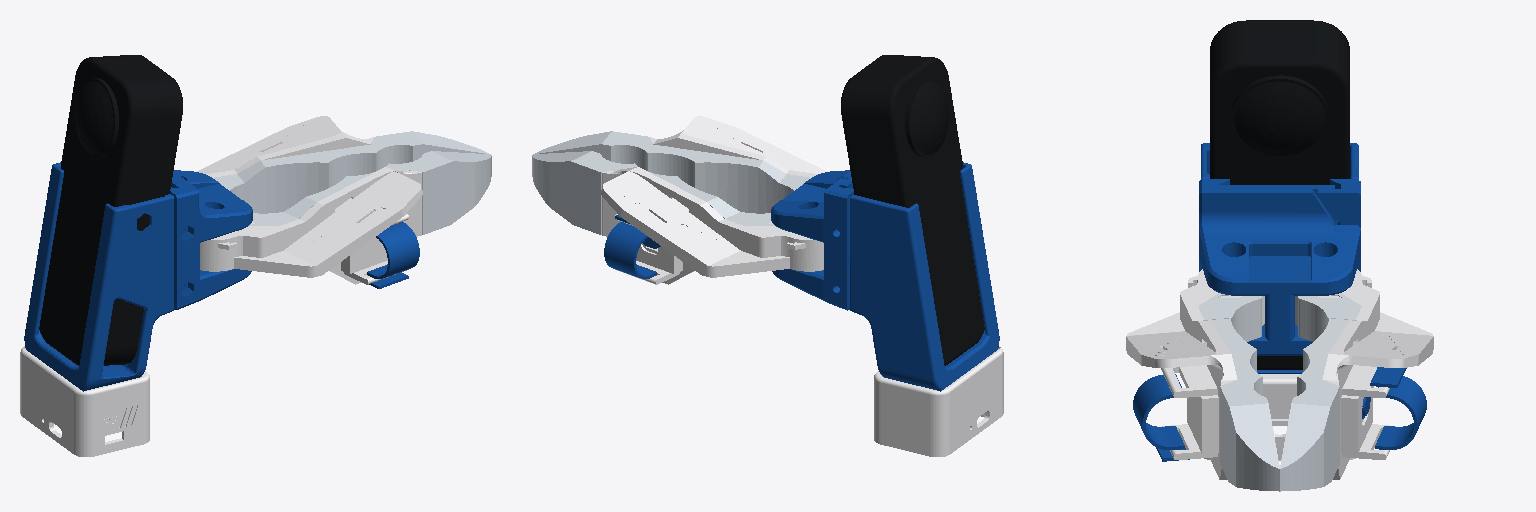
robot.urdf — pg_chopstick_data_left:
<?xml version="1.0"?>
<!-- PG Chopstick, generated by chopstick/cad/urdf.py. Units: m, rad. -->
<robot name="pg_chopstick_data_left">
  <material name="pg_blue"><color rgba="0.12 0.37 0.68 1"/></material>
  <material name="pg_white"><color rgba="0.96 0.96 0.97 1"/></material>
  <material name="tpu"><color rgba="0.87 0.9 0.93 1"/></material>
  <material name="camera"><color rgba="0.11 0.12 0.13 1"/></material>
  <link name="chopstick_base">
    <visual name="chopstick_base_dc"><origin xyz="0 0 0" rpy="0 0 0"/><geometry><mesh filename="meshes/chopstick_base_dc.stl" scale="0.001 0.001 0.001"/></geometry><material name="pg_blue"/></visual>
    <collision name="chopstick_base_dc"><origin xyz="0 0 0" rpy="0 0 0"/><geometry><mesh filename="meshes/chopstick_base_dc.stl" scale="0.001 0.001 0.001"/></geometry></collision>
    <visual name="chopstick_clip_dc"><origin xyz="0 0 0" rpy="0 0 0"/><geometry><mesh filename="meshes/chopstick_clip_dc.stl" scale="0.001 0.001 0.001"/></geometry><material name="pg_blue"/></visual>
    <collision name="chopstick_clip_dc"><origin xyz="0 0 0" rpy="0 0 0"/><geometry><mesh filename="meshes/chopstick_clip_dc.stl" scale="0.001 0.001 0.001"/></geometry></collision>
    <visual name="x5_lite_frame"><origin xyz="0 0 0" rpy="0 0 0"/><geometry><mesh filename="meshes/x5_lite_frame.stl" scale="0.001 0.001 0.001"/></geometry><material name="pg_blue"/></visual>
    <collision name="x5_lite_frame"><origin xyz="0 0 0" rpy="0 0 0"/><geometry><mesh filename="meshes/x5_lite_frame.stl" scale="0.001 0.001 0.001"/></geometry></collision>
    <visual name="pg_pod"><origin xyz="0 0 0" rpy="0 0 0"/><geometry><mesh filename="meshes/pg_pod.stl" scale="0.001 0.001 0.001"/></geometry><material name="pg_white"/></visual>
    <collision name="pg_pod"><origin xyz="0 0 0" rpy="0 0 0"/><geometry><mesh filename="meshes/pg_pod.stl" scale="0.001 0.001 0.001"/></geometry></collision>
    <visual name="pg_pod_lid"><origin xyz="0 0 0" rpy="0 0 0"/><geometry><mesh filename="meshes/pg_pod_lid.stl" scale="0.001 0.001 0.001"/></geometry><material name="pg_white"/></visual>
    <collision name="pg_pod_lid"><origin xyz="0 0 0" rpy="0 0 0"/><geometry><mesh filename="meshes/pg_pod_lid.stl" scale="0.001 0.001 0.001"/></geometry></collision>
    <visual name="insta360_x5_envelope"><origin xyz="0 0 0" rpy="0 0 0"/><geometry><mesh filename="meshes/insta360_x5_envelope.stl" scale="0.001 0.001 0.001"/></geometry><material name="camera"/></visual>
    <collision name="insta360_x5_envelope"><origin xyz="0 0 0" rpy="0 0 0"/><geometry><mesh filename="meshes/insta360_x5_envelope.stl" scale="0.001 0.001 0.001"/></geometry></collision>
    <inertial><origin xyz="0.0303763 0.000128389 0.00893458" rpy="0 0 0"/><mass value="0.27072"/><inertia ixx="0.0004251" ixy="5.685e-07" ixz="-5.066e-05" iyy="0.0004304" iyz="1.407e-06" izz="0.0001112"/></inertial>
  </link>
  <link name="chopstick_jaw_left">
    <visual name="tip_tpu_left"><origin xyz="0 0 0" rpy="0 0 0"/><geometry><mesh filename="meshes/tip_tpu_left_jawframe.stl" scale="0.001 0.001 0.001"/></geometry><material name="tpu"/></visual>
    <collision name="tip_tpu_left"><origin xyz="0 0 0" rpy="0 0 0"/><geometry><mesh filename="meshes/tip_tpu_left_jawframe.stl" scale="0.001 0.001 0.001"/></geometry></collision>
    <visual name="sleeve_strap_left"><origin xyz="0 0 0" rpy="0 0 0"/><geometry><mesh filename="meshes/sleeve_strap_left_jawframe.stl" scale="0.001 0.001 0.001"/></geometry><material name="pg_blue"/></visual>
    <collision name="sleeve_strap_left"><origin xyz="0 0 0" rpy="0 0 0"/><geometry><mesh filename="meshes/sleeve_strap_left_jawframe.stl" scale="0.001 0.001 0.001"/></geometry></collision>
    <visual name="jaw_left_dc_button"><origin xyz="0 0 0" rpy="0 0 0"/><geometry><mesh filename="meshes/jaw_left_dc_button_jawframe.stl" scale="0.001 0.001 0.001"/></geometry><material name="pg_white"/></visual>
    <collision name="jaw_left_dc_button"><origin xyz="0 0 0" rpy="0 0 0"/><geometry><mesh filename="meshes/jaw_left_dc_button_jawframe.stl" scale="0.001 0.001 0.001"/></geometry></collision>
    <visual name="sleeve_button_cover_left"><origin xyz="0 0 0" rpy="0 0 0"/><geometry><mesh filename="meshes/sleeve_button_cover_left_jawframe.stl" scale="0.001 0.001 0.001"/></geometry><material name="pg_blue"/></visual>
    <collision name="sleeve_button_cover_left"><origin xyz="0 0 0" rpy="0 0 0"/><geometry><mesh filename="meshes/sleeve_button_cover_left_jawframe.stl" scale="0.001 0.001 0.001"/></geometry></collision>
    <inertial><origin xyz="0.0651897 0.00373761 -0.0037349" rpy="0 0 0"/><mass value="0.054547"/><inertia ixx="9.099e-06" ixy="7.189e-06" ixz="1.244e-06" iyy="6.957e-05" iyz="1.849e-07" izz="7.156e-05"/></inertial>
  </link>
  <link name="chopstick_tip_left"/>
  <link name="chopstick_jaw_right">
    <visual name="tip_tpu_right"><origin xyz="0 0 0" rpy="0 0 0"/><geometry><mesh filename="meshes/tip_tpu_right_jawframe.stl" scale="0.001 0.001 0.001"/></geometry><material name="tpu"/></visual>
    <collision name="tip_tpu_right"><origin xyz="0 0 0" rpy="0 0 0"/><geometry><mesh filename="meshes/tip_tpu_right_jawframe.stl" scale="0.001 0.001 0.001"/></geometry></collision>
    <visual name="sleeve_strap_right"><origin xyz="0 0 0" rpy="0 0 0"/><geometry><mesh filename="meshes/sleeve_strap_right_jawframe.stl" scale="0.001 0.001 0.001"/></geometry><material name="pg_blue"/></visual>
    <collision name="sleeve_strap_right"><origin xyz="0 0 0" rpy="0 0 0"/><geometry><mesh filename="meshes/sleeve_strap_right_jawframe.stl" scale="0.001 0.001 0.001"/></geometry></collision>
    <visual name="jaw_right_dc"><origin xyz="0 0 0" rpy="0 0 0"/><geometry><mesh filename="meshes/jaw_right_dc_jawframe.stl" scale="0.001 0.001 0.001"/></geometry><material name="pg_white"/></visual>
    <collision name="jaw_right_dc"><origin xyz="0 0 0" rpy="0 0 0"/><geometry><mesh filename="meshes/jaw_right_dc_jawframe.stl" scale="0.001 0.001 0.001"/></geometry></collision>
    <inertial><origin xyz="0.0651715 -0.00372102 -0.00404317" rpy="0 0 0"/><mass value="0.054576"/><inertia ixx="9.295e-06" ixy="-7.161e-06" ixz="1.284e-06" iyy="6.991e-05" iyz="-4.596e-07" izz="7.166e-05"/></inertial>
  </link>
  <link name="chopstick_tip_right"/>
  <link name="chopstick_camera"/>
  <link name="chopstick_tcp"/>
  <joint name="chopstick_jaw" type="revolute">
    <parent link="chopstick_base"/><child link="chopstick_jaw_left"/>
    <origin xyz="0.06733 0.015 0" rpy="0 0 0"/><axis xyz="0 0 1"/>
    <limit lower="0.00000" upper="1.25664" effort="4" velocity="6"/>
  </joint>
  <joint name="chopstick_tip_left_joint" type="fixed"><parent link="chopstick_jaw_left"/><child link="chopstick_tip_left"/><origin xyz="0.137417 -0.015085 -0.003671" rpy="0 0 0"/></joint>
  <joint name="chopstick_jaw_right" type="revolute">
    <parent link="chopstick_base"/><child link="chopstick_jaw_right"/>
    <origin xyz="0.06733 -0.015 0" rpy="0 0 0"/><axis xyz="0 0 1"/>
    <limit lower="-1.25664" upper="0.00000" effort="4" velocity="6"/>
    <mimic joint="chopstick_jaw" multiplier="-1" offset="0"/>
  </joint>
  <joint name="chopstick_tip_right_joint" type="fixed"><parent link="chopstick_jaw_right"/><child link="chopstick_tip_right"/><origin xyz="0.137417 0.015085 -0.003671" rpy="0 0 0"/></joint>
  <joint name="chopstick_camera_joint" type="fixed"><parent link="chopstick_base"/><child link="chopstick_camera"/><origin xyz="0.034420877 0 0.057" rpy="0 0.174532726 0"/></joint>
  <joint name="chopstick_tcp_joint" type="fixed"><parent link="chopstick_base"/><child link="chopstick_tcp"/><origin xyz="0.204747 0 -0.003671" rpy="0 0 0"/></joint>
</robot>

--- What the picture shows (computed from the rendered views, not written in the file) ---
The picture shows the robot from 3 angles, left to right: view 1: azimuth 30°, elevation 25°; view 2: azimuth 150°, elevation 25°; view 3: azimuth 270°, elevation 25°; orthographic projection.
Robot: pg_chopstick_data_left — 7 links, 6 joints (2 revolute, 4 fixed); root link chopstick_base; default pose: every joint at zero.
Links seen in each view (by area): view 1: chopstick_base, chopstick_jaw_right, chopstick_jaw_left; view 2: chopstick_base, chopstick_jaw_left, chopstick_jaw_right; view 3: chopstick_base, chopstick_jaw_right, chopstick_jaw_left.
Boxes of the visible links, box(x1,y1,x2,y2) form: chopstick_base: box(20, 55, 252, 456); chopstick_jaw_right: box(200, 151, 491, 288); chopstick_jaw_left: box(197, 116, 488, 213); chopstick_base: box(771, 55, 1003, 456); chopstick_jaw_left: box(532, 151, 823, 284); chopstick_jaw_right: box(535, 116, 826, 213); chopstick_base: box(1199, 20, 1360, 460); chopstick_jaw_right: box(1126, 269, 1279, 491); chopstick_jaw_left: box(1280, 269, 1433, 491).
Bounding box of the posed robot: 0.2064 × 0.1008 × 0.1563 m (x, y, z).
12 mesh visuals loaded from 13 distinct referenced files (12 binary STL); not drawn: 1 (reference not matched to a file when rendering).
